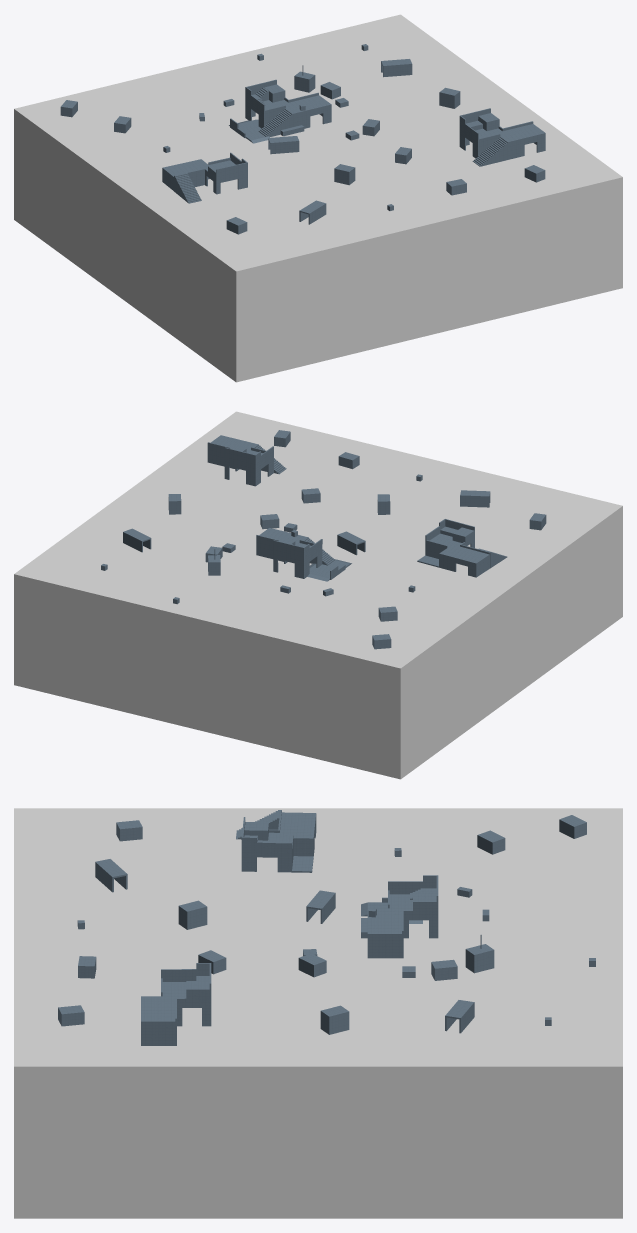
File: Environment.glb
The picture shows the model from 3 angles, top to bottom: view 1: azimuth 30°, elevation 25°; view 2: azimuth 150°, elevation 25°; view 3: azimuth 270°, elevation 25°; orthographic projection. The views are drawn at different scales.
Parts seen in each view (by area): view 1: Ground, Structure_Prefab (1), Structure_Prefab, Structure_Prefab (2), Stairs_650_400_300_Prefab (1), Stairs_650_400_300_Prefab (2), Stairs_650_400_300_Prefab, Tunnel_Prefab, Tunnel_Prefab (2); view 2: Ground, Structure_Prefab (2), Structure_Prefab (1), Structure_Prefab, Tunnel_Prefab (1); view 3: Ground, Structure_Prefab (1), Structure_Prefab, Structure_Prefab (2), Box_350x300x250_Prefab, Tunnel_Prefab (1), Box_350x300x250_Prefab (2), Box_350x300x250_Prefab (1), Tunnel_Prefab, Tunnel_Prefab (2).
Part boxes in pixels (<box>): Ground: <box>14,14,622,382</box>; Structure_Prefab (1): <box>459,108,545,160</box>; Structure_Prefab: <box>245,79,331,135</box>; Structure_Prefab (2): <box>162,152,247,194</box>; Stairs_650_400_300_Prefab (1): <box>472,138,507,166</box>; Stairs_650_400_300_Prefab (2): <box>174,173,201,203</box>; Stairs_650_400_300_Prefab: <box>258,108,293,136</box>; Tunnel_Prefab: <box>268,136,299,154</box>; Tunnel_Prefab (2): <box>381,59,412,77</box>; Ground: <box>14,411,622,779</box>; Structure_Prefab (2): <box>417,519,490,577</box>; Structure_Prefab (1): <box>207,435,273,486</box>; Structure_Prefab: <box>256,528,322,578</box>; Tunnel_Prefab (1): <box>460,490,490,507</box>; Ground: <box>14,808,622,1218</box>; Structure_Prefab (1): <box>141,963,211,1045</box>; Structure_Prefab: <box>367,875,438,958</box>; Structure_Prefab (2): <box>241,810,316,872</box>; Box_350x300x250_Prefab: <box>465,944,494,973</box>; Tunnel_Prefab (1): <box>95,859,127,892</box>; Box_350x300x250_Prefab (2): <box>320,1005,349,1034</box>; Box_350x300x250_Prefab (1): <box>178,900,207,929</box>; Tunnel_Prefab: <box>306,890,335,923</box>; Tunnel_Prefab (2): <box>445,1000,474,1033</box>.
Size of the model in its own units: 91.18 by 31.99 by 90.76.
Materials: 2 (1 with a texture image).
